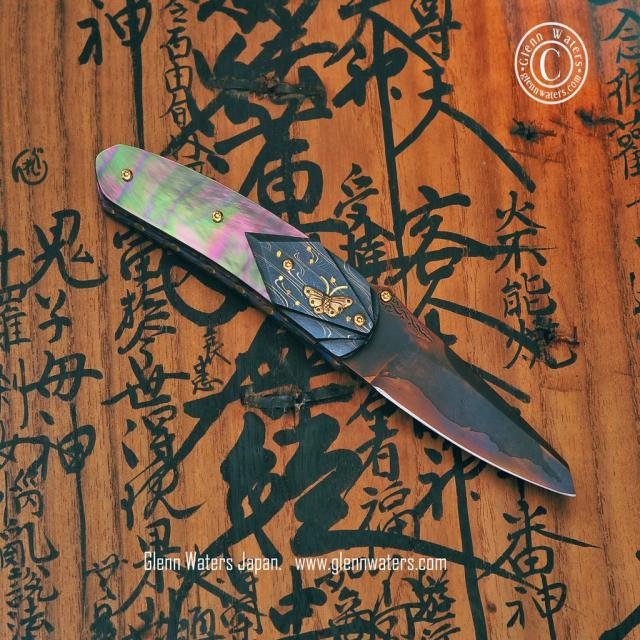Knife: (98, 145, 572, 494)
